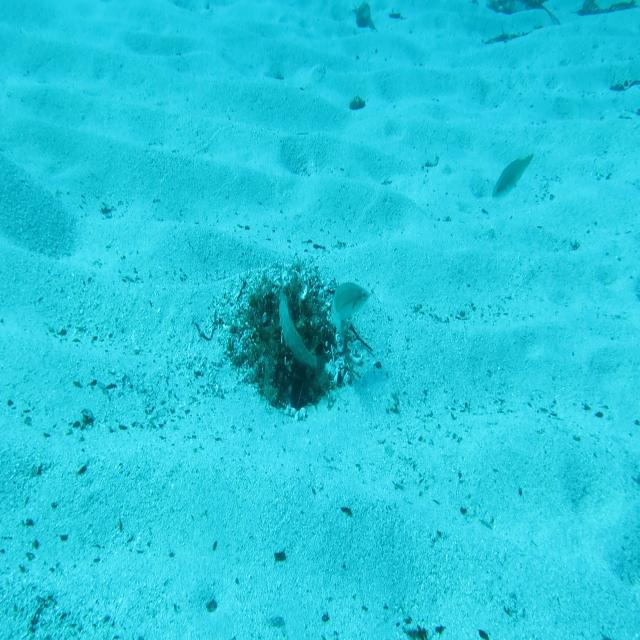SHAK: (270, 288, 336, 378)
female: (329, 280, 372, 348)
nest: (225, 267, 360, 426)
other_fish: (489, 150, 536, 204)
